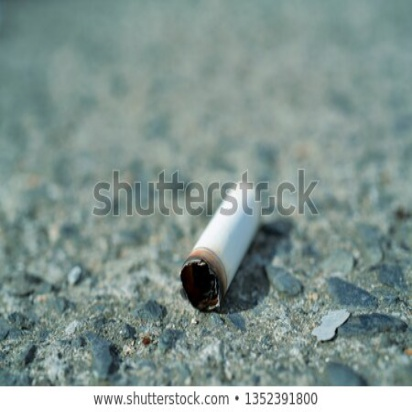cigarette: (175, 159, 261, 322)
